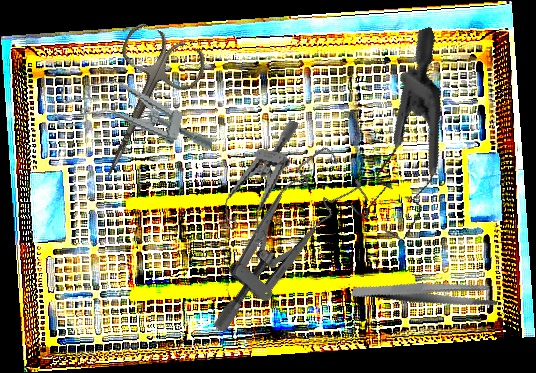Dressing Forceps: (350, 248, 502, 338)
Iris Scissors: (68, 19, 212, 194)
Speculum: (167, 140, 385, 338), (304, 26, 494, 252), (50, 68, 221, 163), (217, 110, 299, 250)
